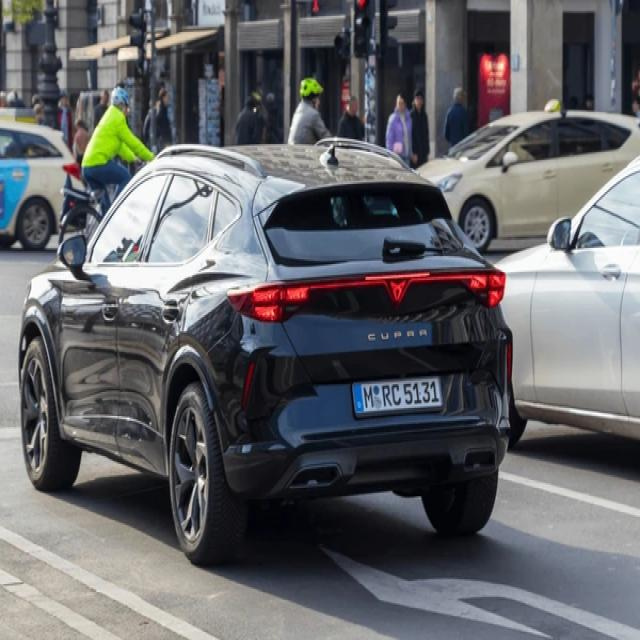cupra: (388, 272, 410, 303)
